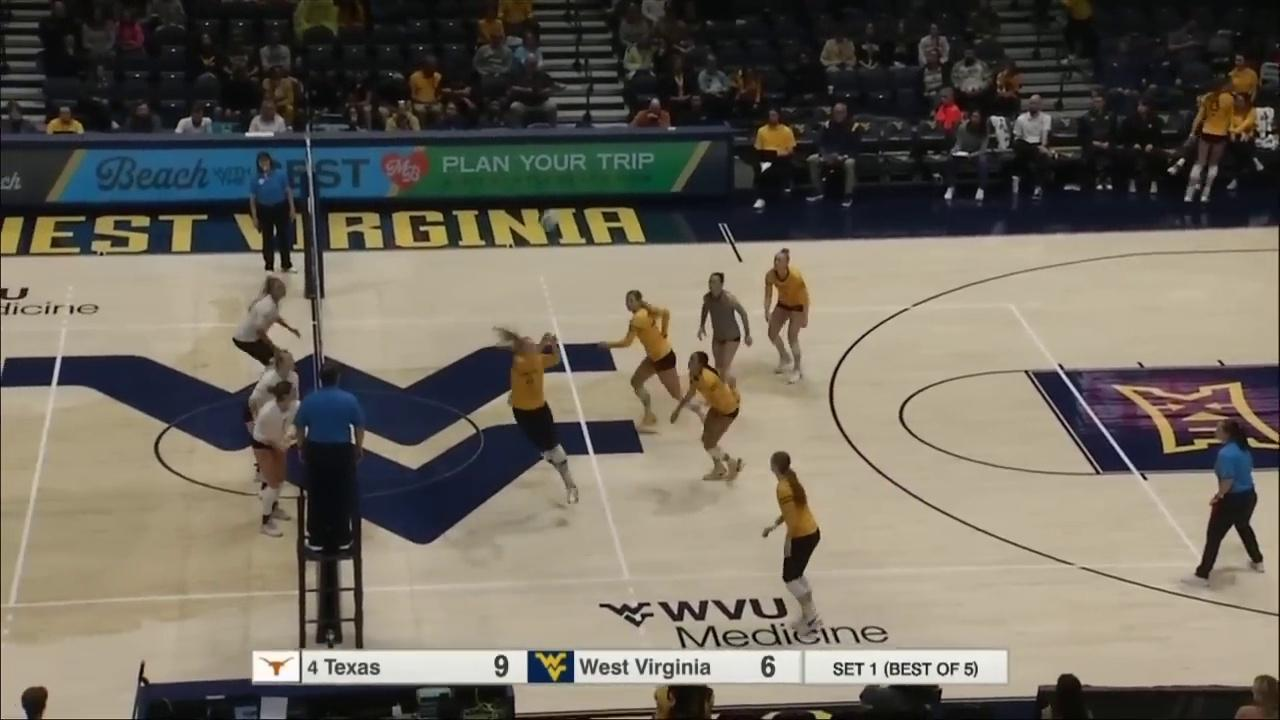player: (596, 289, 711, 432), (496, 326, 581, 504), (763, 451, 825, 635), (669, 355, 746, 486), (240, 351, 299, 501), (233, 279, 301, 391), (757, 248, 810, 382), (699, 271, 752, 404), (254, 381, 297, 536)
refree: (1182, 420, 1267, 584), (295, 363, 367, 551), (248, 153, 297, 275)
